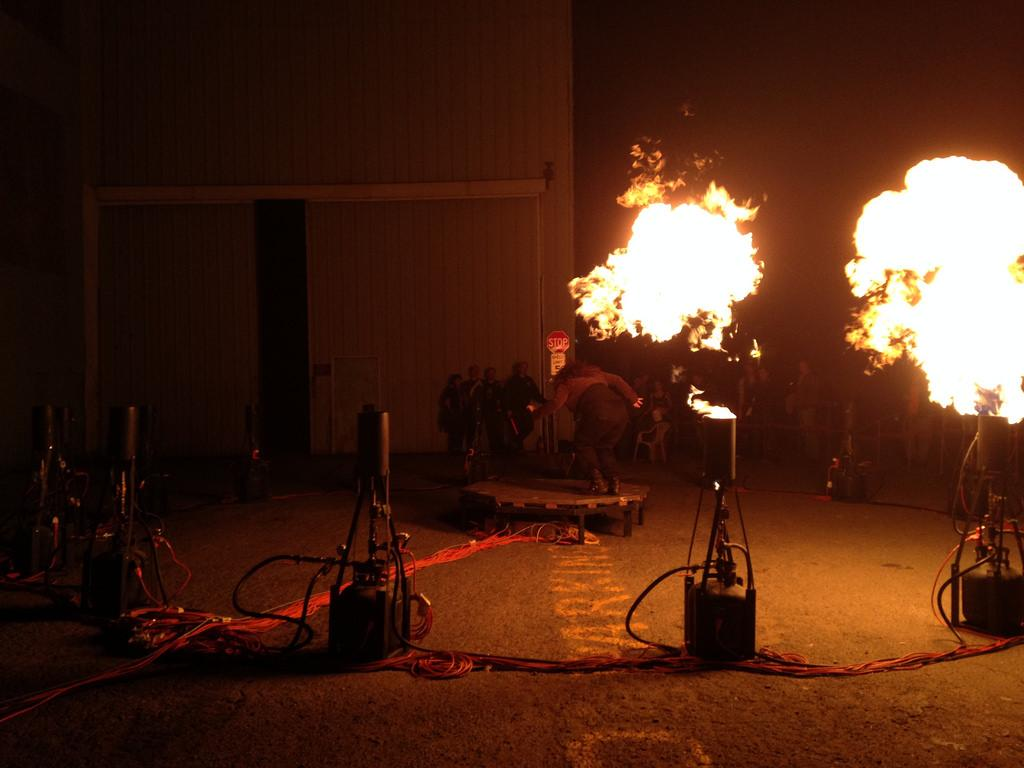fire: (626, 216, 736, 322), (914, 284, 1020, 374), (890, 194, 1014, 264)
